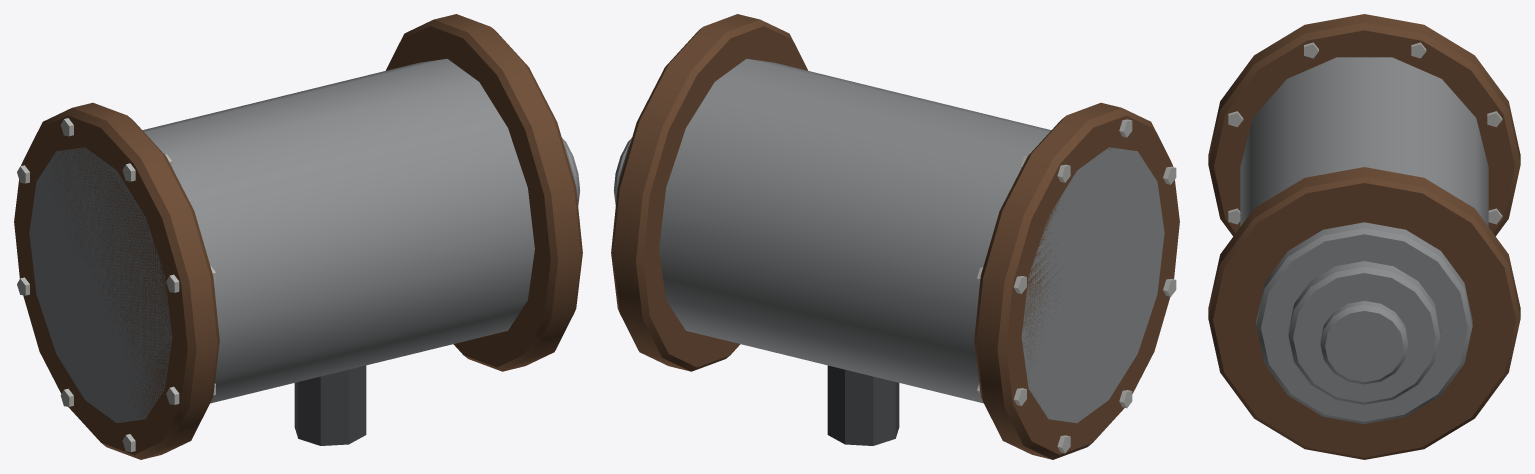
The model's file is pipe-ending-left.glb.
The picture shows the model from 3 angles, left to right: view 1: azimuth 30°, elevation 25°; view 2: azimuth 150°, elevation 25°; view 3: azimuth 270°, elevation 25°; orthographic projection. The views are drawn at different scales.
Visible parts, largest first — view 1: body; view 2: body; view 3: body.
Part boxes in pixels (left/top/right/bottom): body: left=14, top=14, right=582, bottom=459; body: left=611, top=14, right=1179, bottom=459; body: left=1208, top=14, right=1520, bottom=459.
Bounding box in the file's own units: 1 × 0.76 × 0.68.
